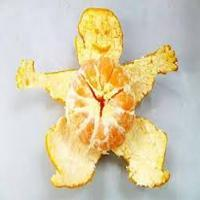biodegradable: (66, 56, 137, 152)
